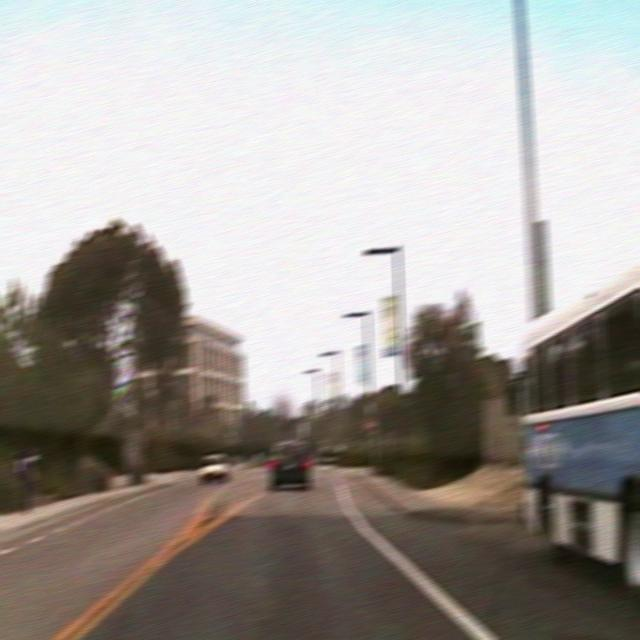stop_sign: (361, 415, 377, 433)
